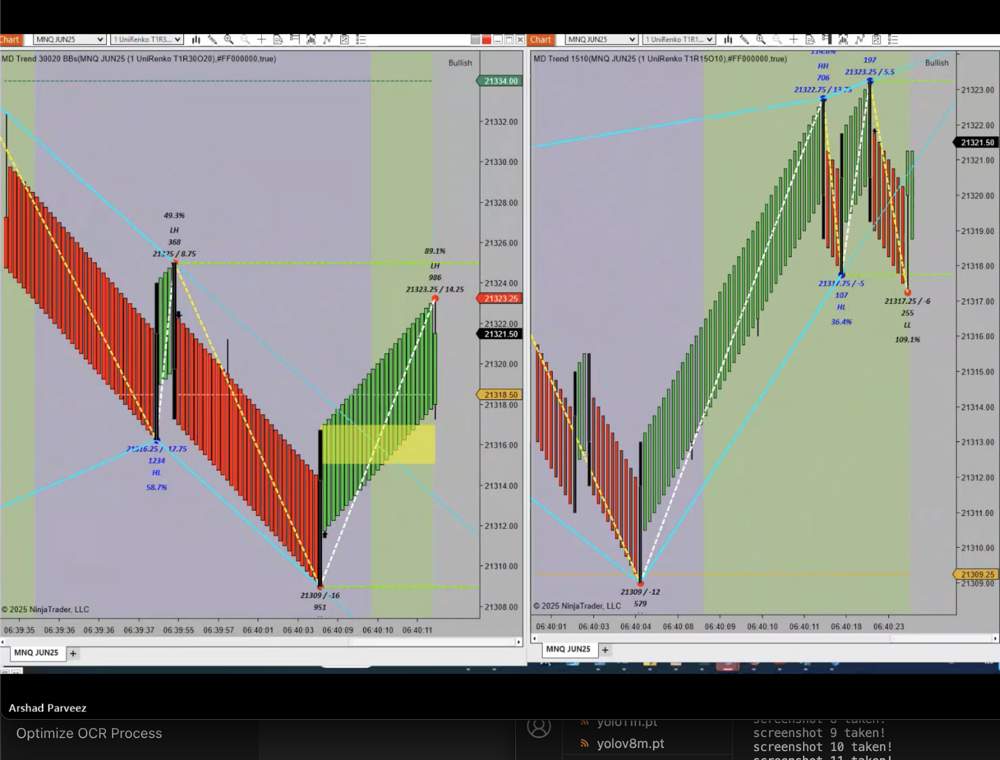HH: (816, 58, 833, 72)
HL: (150, 464, 163, 483), (834, 300, 849, 313)
LH: (167, 222, 184, 236), (427, 260, 443, 271)
LL: (902, 318, 915, 335)
